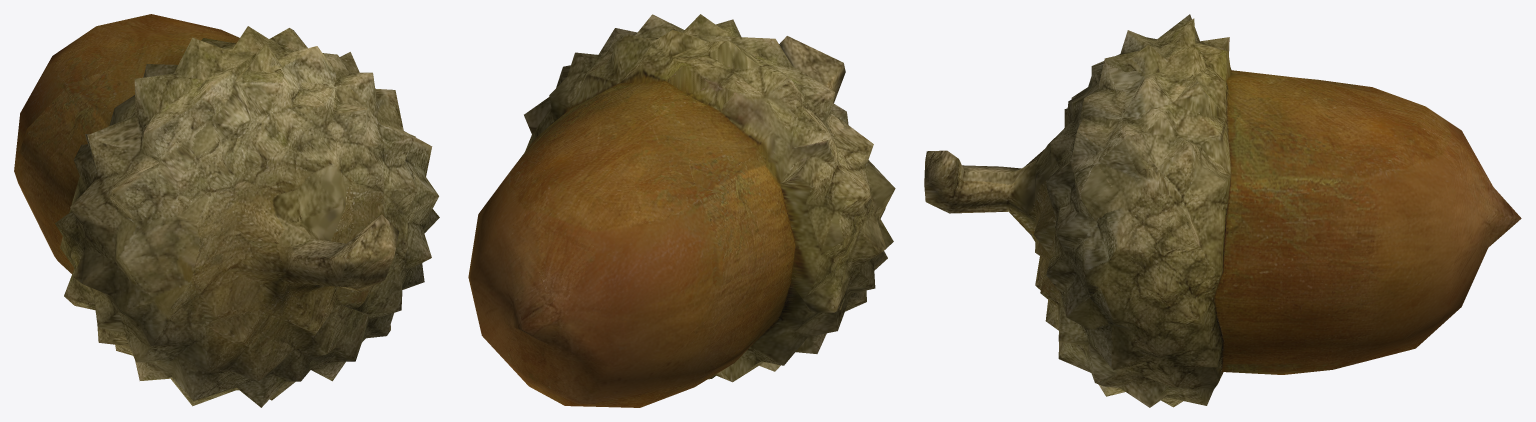
Rendered from acorn_bomb.glb.
3 renders of one model, left to right at view 1: azimuth 30°, elevation 25°; view 2: azimuth 150°, elevation 25°; view 3: azimuth 270°, elevation 25°, orthographic.
Bounding box in the file's own units: 0.6813 × 0.6452 × 1.
Materials: 1 (1 with a texture image).
